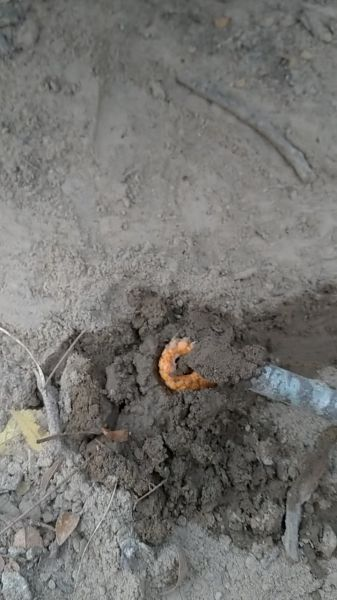eggs: (153, 333, 226, 393)
